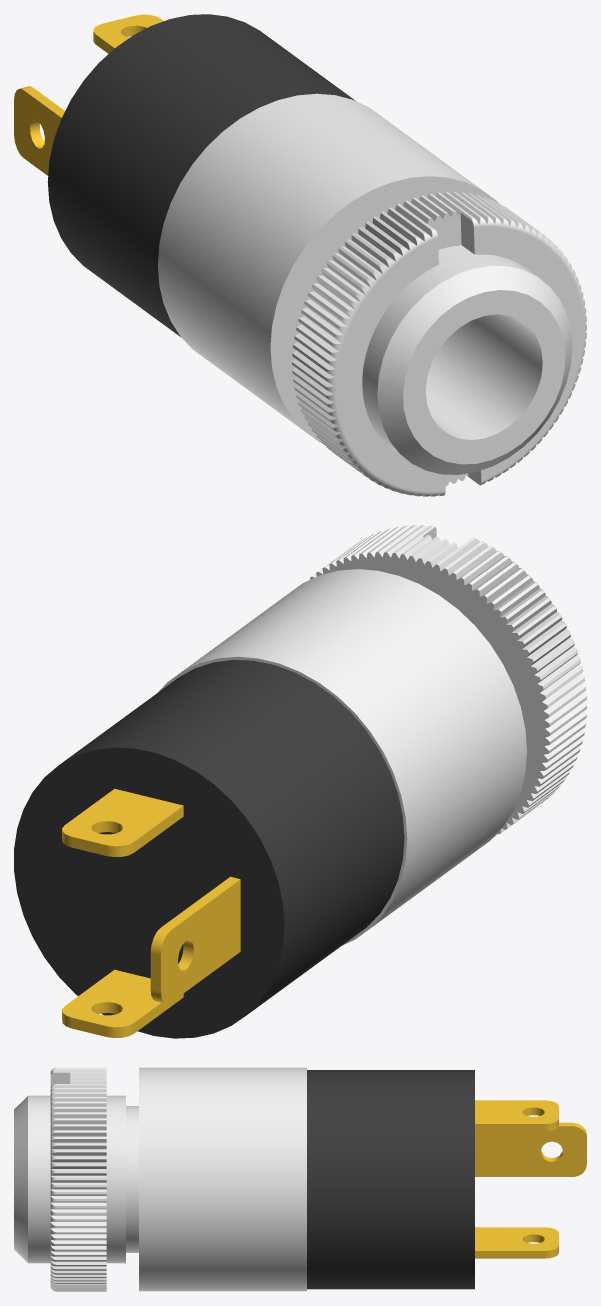
Rendered from 3_5MM Panel Mount Audio Jack - 3 Connector.obj.
The picture shows the model from 3 angles, top to bottom: view 1: azimuth 30°, elevation 25°; view 2: azimuth 150°, elevation 25°; view 3: azimuth 270°, elevation 25°; orthographic projection. The views are drawn at different scales.
Parts seen in each view (by area): view 1: Solid1, Solid1:1; view 2: Solid1, Solid1:1; view 3: Solid1, Solid1:1.
Boxes of the visible parts, <box> form: Solid1: <box>14,14,572,474</box>; Solid1:1: <box>292,192,586,496</box>; Solid1: <box>14,569,526,1038</box>; Solid1:1: <box>306,525,586,837</box>; Solid1: <box>14,1067,586,1291</box>; Solid1:1: <box>50,1067,106,1291</box>.
Bounding box in the file's own units: 8 × 8 × 20.46.
